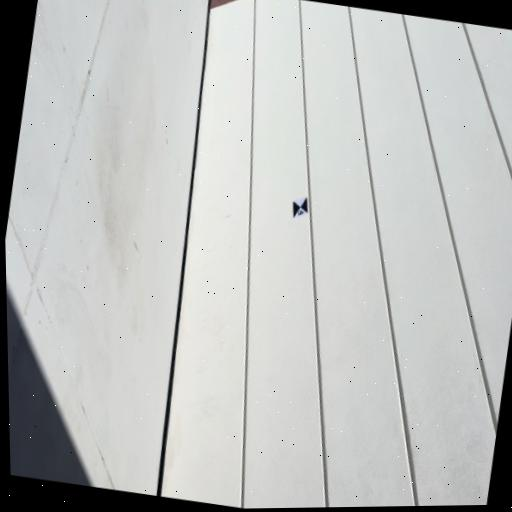target4: (292, 196, 307, 218)
